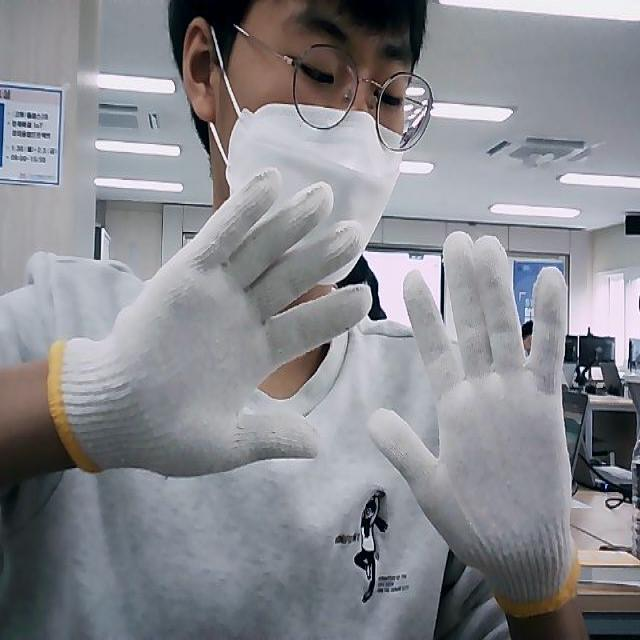GLOVE: (48, 170, 372, 477), (378, 230, 582, 612)
